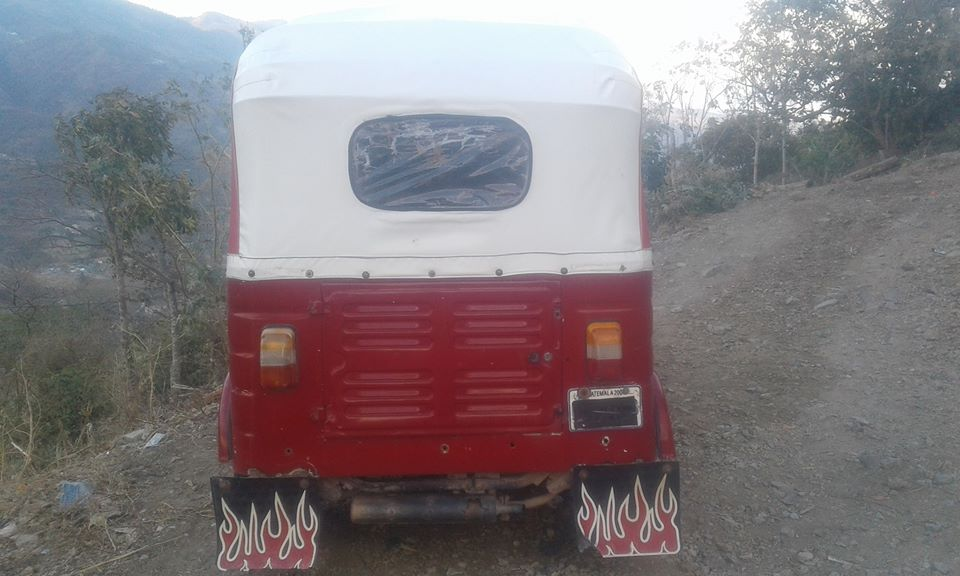mototaxi: (216, 11, 685, 576)
